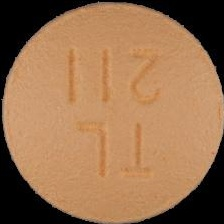0179-0189: (0, 0, 224, 224)
